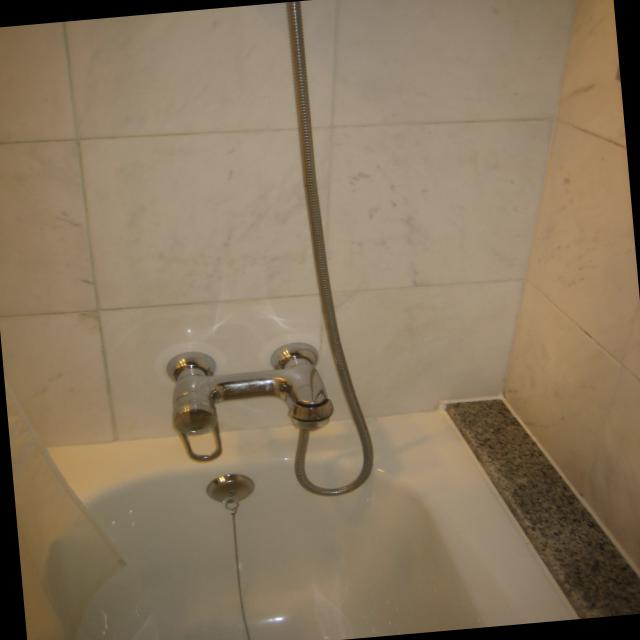bath faucet: (11, 409, 579, 640)
faucet handle: (168, 344, 334, 431)
wall clock: (502, 0, 640, 576)
